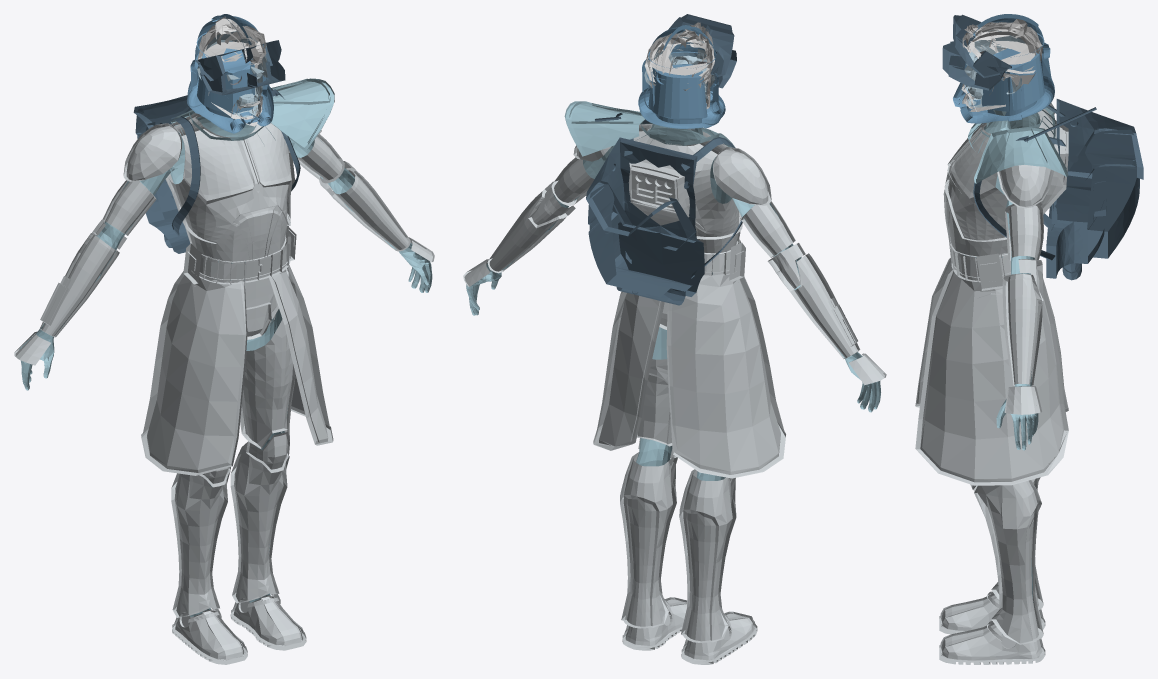
Rendered from 821_medic.glb.
3 renders of one model, left to right at view 1: azimuth 30°, elevation 25°; view 2: azimuth 150°, elevation 25°; view 3: azimuth 270°, elevation 25°, orthographic.
Visible parts, largest first — view 1: bg_01_armor__option_00_clone_armor.smd__mesh_00, bg_08_Kama__option_01_kama.smd__mesh_00, bg_00_body__option_00_body.smd__mesh_00, bg_06_Backpack__option_00_backpack.smd__mesh_00, bg_02_helmet__option_00_helmet.smd__mesh_00, bg_07_Pauldron__option_01_pauldron.smd__mesh_00, bg_05_helmet attachments__option_02_helmet_binos_down.smd__m, bg_02_helmet__option_01_new_head.smd__mesh_00, bg_05_helmet attachments__option_01_helmet_binos_up.smd__mes; view 2: bg_01_armor__option_00_clone_armor.smd__mesh_00, bg_08_Kama__option_01_kama.smd__mesh_00, bg_06_Backpack__option_00_backpack.smd__mesh_00, bg_02_helmet__option_00_helmet.smd__mesh_00, bg_00_body__option_00_body.smd__mesh_00, bg_07_Pauldron__option_01_pauldron.smd__mesh_00, bg_05_helmet attachments__option_01_helmet_binos_up.smd__mes, bg_03_Hair__option_15_hair_slick.smd__mesh_00, bg_02_helmet__option_01_new_head.smd__mesh_00; view 3: bg_01_armor__option_00_clone_armor.smd__mesh_00, bg_08_Kama__option_01_kama.smd__mesh_00, bg_06_Backpack__option_00_backpack.smd__mesh_00, bg_02_helmet__option_00_helmet.smd__mesh_00, bg_07_Pauldron__option_01_pauldron.smd__mesh_00, bg_00_body__option_00_body.smd__mesh_00, bg_05_helmet attachments__option_01_helmet_binos_up.smd__mes, bg_05_helmet attachments__option_02_helmet_binos_down.smd__m, bg_02_helmet__option_01_new_head.smd__mesh_00, bg_03_Hair__option_15_hair_slick.smd__mesh_00.
Part boxes in pixels (x1,y1,x2,y2): bg_01_armor__option_00_clone_armor.smd__mesh_00: (14,113,434,664); bg_08_Kama__option_01_kama.smd__mesh_00: (141,265,333,475); bg_00_body__option_00_body.smd__mesh_00: (19,116,432,617); bg_06_Backpack__option_00_backpack.smd__mesh_00: (133,95,300,253); bg_02_helmet__option_00_helmet.smd__mesh_00: (187,14,273,133); bg_07_Pauldron__option_01_pauldron.smd__mesh_00: (170,78,334,149); bg_05_helmet attachments__option_02_helmet_binos_down.smd__m: (198,55,285,95); bg_02_helmet__option_01_new_head.smd__mesh_00: (197,31,267,117); bg_05_helmet attachments__option_01_helmet_binos_up.smd__mes: (195,40,281,81); bg_01_armor__option_00_clone_armor.smd__mesh_00: (463,124,886,664); bg_08_Kama__option_01_kama.smd__mesh_00: (593,271,785,478); bg_06_Backpack__option_00_backpack.smd__mesh_00: (586,119,742,305); bg_02_helmet__option_00_helmet.smd__mesh_00: (638,25,725,128); bg_00_body__option_00_body.smd__mesh_00: (466,124,880,480); bg_07_Pauldron__option_01_pauldron.smd__mesh_00: (564,101,735,156); bg_05_helmet attachments__option_01_helmet_binos_up.smd__mes: (668,14,734,76); bg_03_Hair__option_15_hair_slick.smd__mesh_00: (651,33,709,75); bg_02_helmet__option_01_new_head.smd__mesh_00: (644,36,714,130); bg_01_armor__option_00_clone_armor.smd__mesh_00: (939,103,1068,664); bg_08_Kama__option_01_kama.smd__mesh_00: (915,258,1068,485); bg_06_Backpack__option_00_backpack.smd__mesh_00: (973,99,1143,280); bg_02_helmet__option_00_helmet.smd__mesh_00: (953,14,1054,123); bg_07_Pauldron__option_01_pauldron.smd__mesh_00: (967,107,1068,183); bg_00_body__option_00_body.smd__mesh_00: (962,110,1040,634); bg_05_helmet attachments__option_01_helmet_binos_up.smd__mes: (953,14,1011,78); bg_05_helmet attachments__option_02_helmet_binos_down.smd__m: (942,41,1007,90); bg_02_helmet__option_01_new_head.smd__mesh_00: (964,30,1034,107); bg_03_Hair__option_15_hair_slick.smd__mesh_00: (971,26,1035,64).
Bounding box in the file's own units: 52.96 × 74.43 × 24.65.
